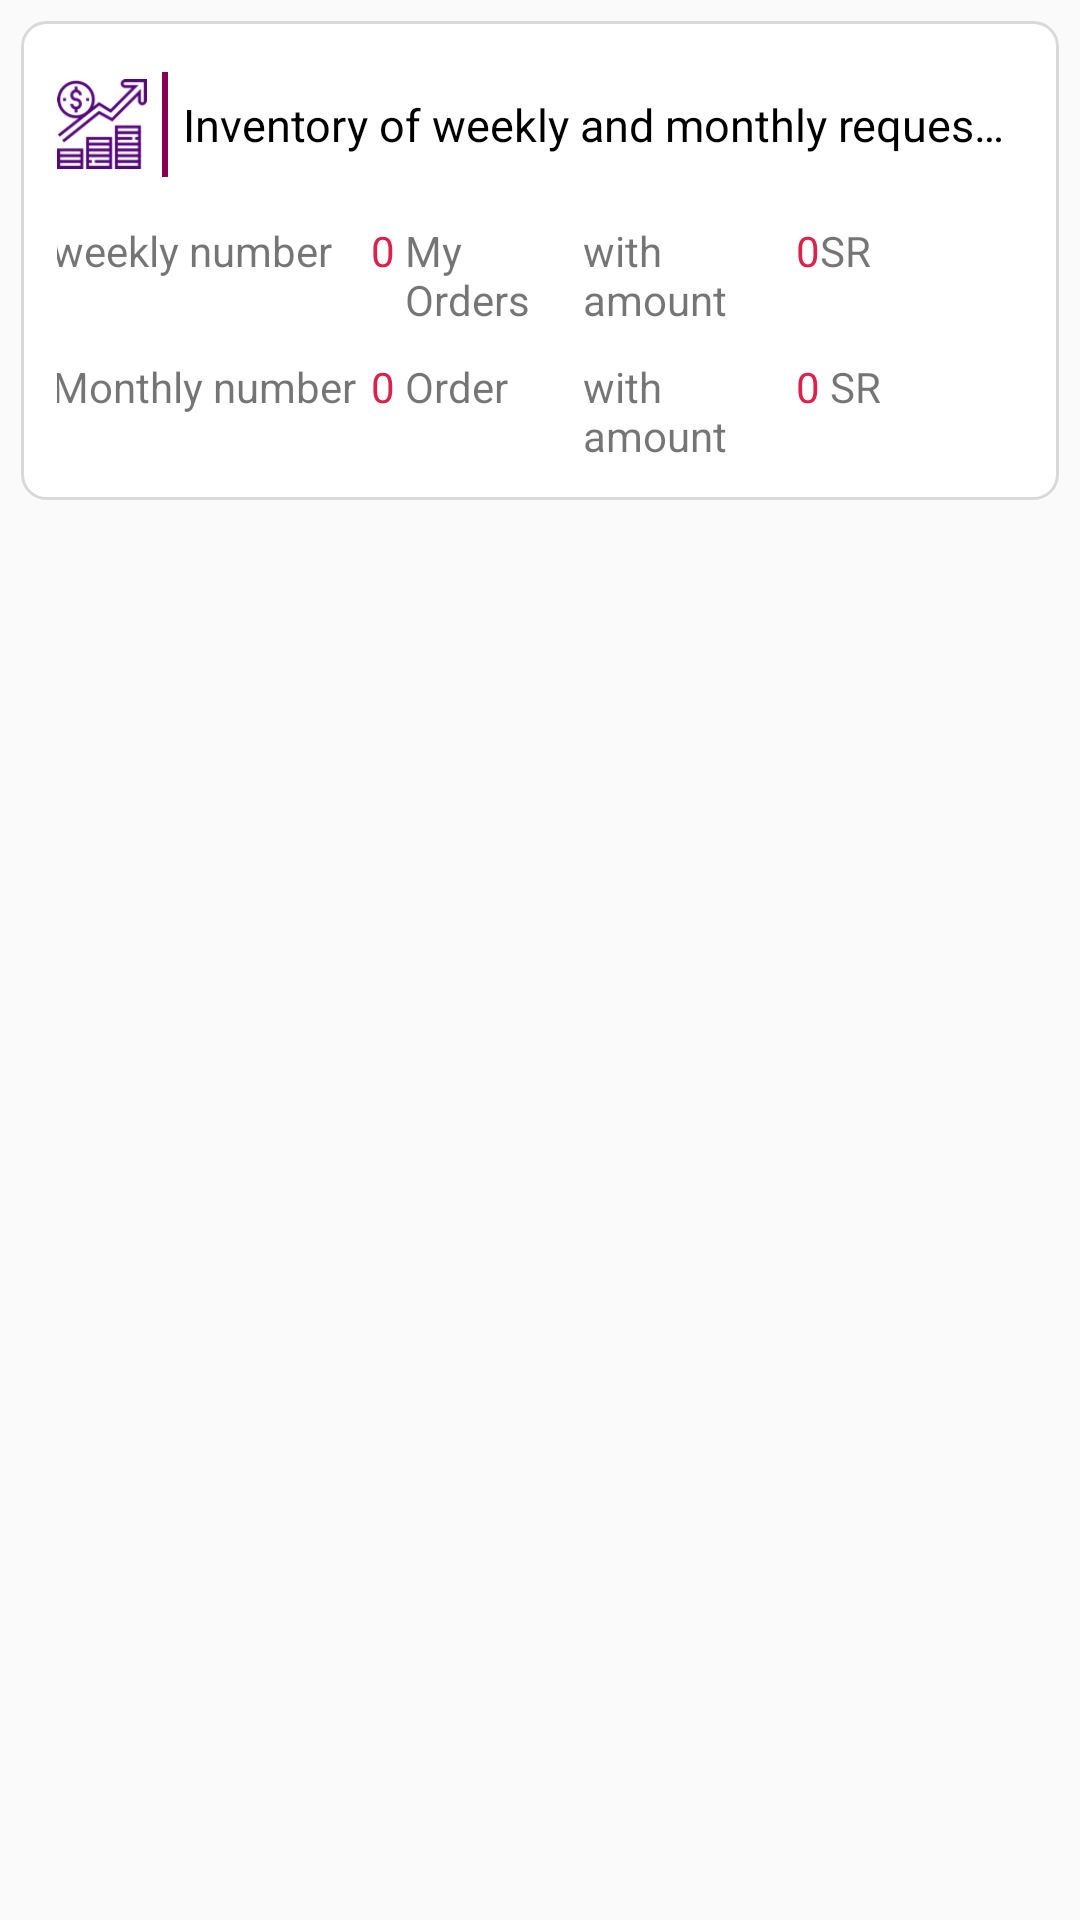

Icons on this 1080px×1920px Android screen, each with the point to tap as (x,y):
income: (102,124)
